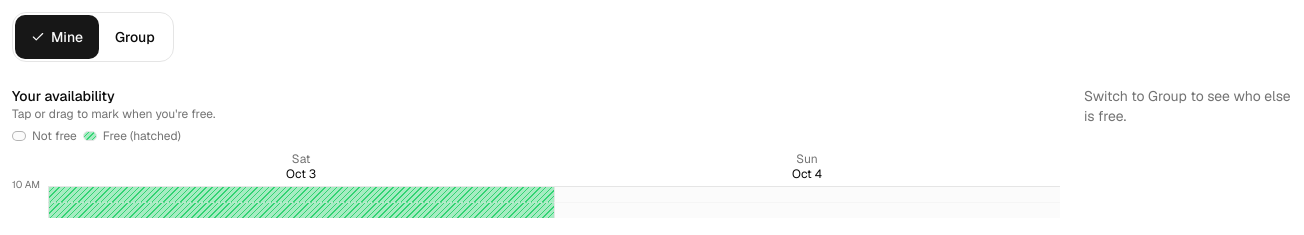
Test: AvailabilityGrid › group range › needs a short hold before a touch starts a range, so swipes can scroll
Click the button "Group": click(135, 37) [99,15,171,59]
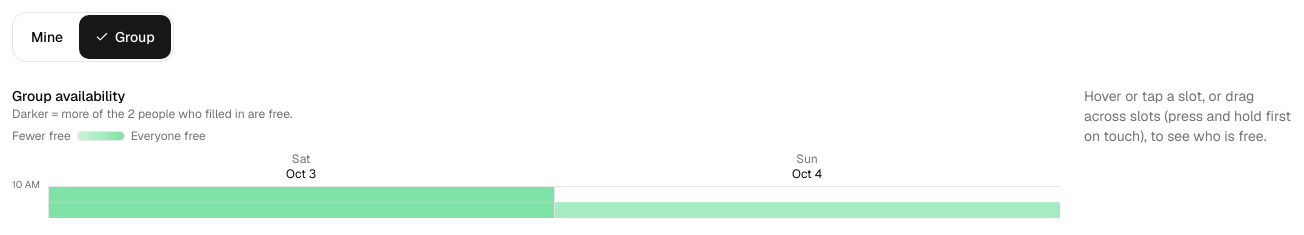
Press the mouse on the button named "Sat, Oct 3, 10:00 AM: 2 of 2 free": (301, 194) [48,186,554,202]
Now the text "Hover or tap a slot, or drag across slots (press and hold first on touch), to see who is free." is shown, box [1084,87,1291,145]
Press the mouse on the button named "Sat, Oct 3, 10:00 AM: 2 of 2 free": (301, 194) [48,186,554,202]
Wait 300 ms
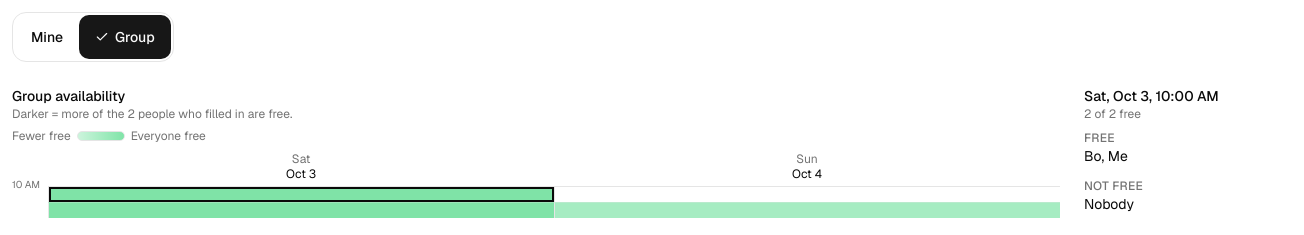
Now the text "Sat, Oct 3, 10:00 AM" is shown, box [1084,87,1219,105]
